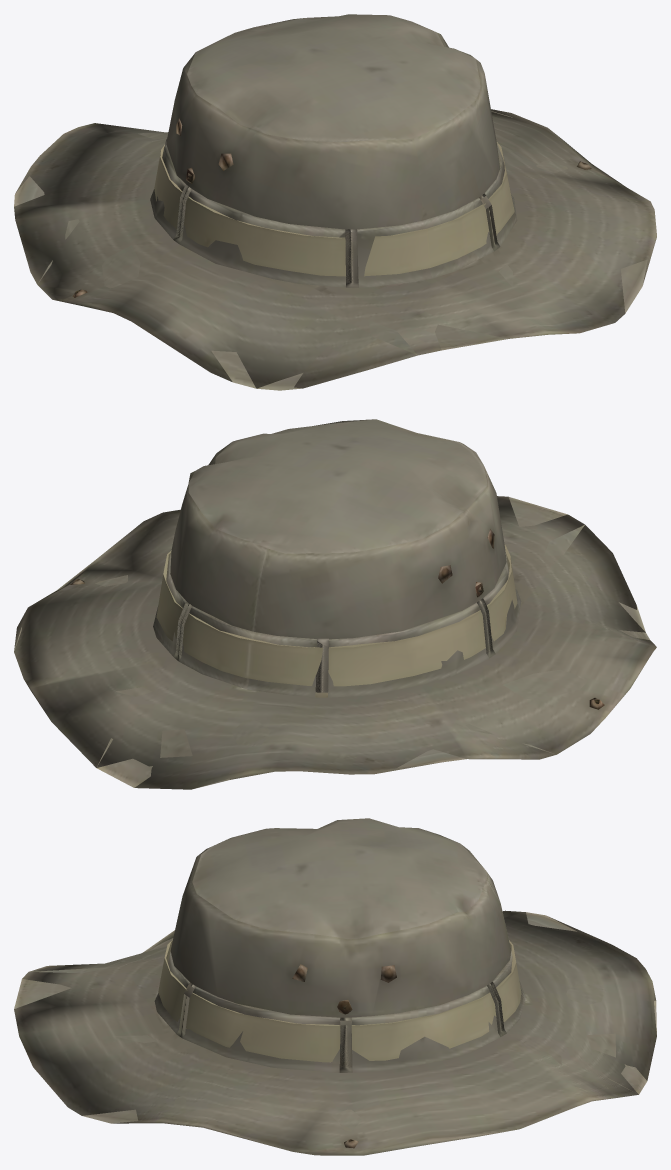
The model's file is fishermans_hat.glb.
The picture shows the model from 3 angles, top to bottom: view 1: azimuth 30°, elevation 25°; view 2: azimuth 150°, elevation 25°; view 3: azimuth 270°, elevation 25°; orthographic projection. The views are drawn at different scales.
Parts seen in each view (by area): view 1: fishermans_hat; view 2: fishermans_hat; view 3: fishermans_hat.
Part boxes in pixels (x1,y1,x2,y2): fishermans_hat: (14, 14, 656, 390); fishermans_hat: (14, 419, 656, 789); fishermans_hat: (14, 818, 656, 1155).
Bounding box in the file's own units: 0.3228 × 0.124 × 0.3494.
1 material, 1 textured.
